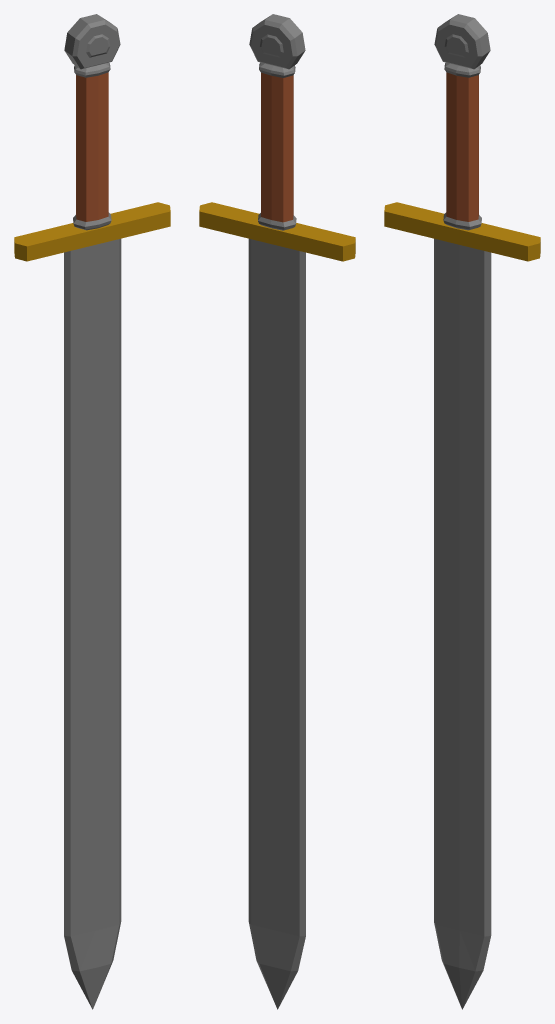
Rendered from Prop_Fantasy_Weapon_Sword_01.FBX.
3 renders of one model, left to right at view 1: azimuth 30°, elevation 25°; view 2: azimuth 150°, elevation 25°; view 3: azimuth 330°, elevation 25°, orthographic.
Visible parts, largest first — view 1: Prop_Fantasy_Weapon_Sword_01; view 2: Prop_Fantasy_Weapon_Sword_01; view 3: Prop_Fantasy_Weapon_Sword_01.
Part boxes in pixels (left/top/right/bottom): Prop_Fantasy_Weapon_Sword_01: left=14, top=14, right=170, bottom=1009; Prop_Fantasy_Weapon_Sword_01: left=199, top=14, right=355, bottom=1009; Prop_Fantasy_Weapon_Sword_01: left=384, top=14, right=540, bottom=1009.
Bounding box in the file's own units: 240 × 1462 × 37.13.
